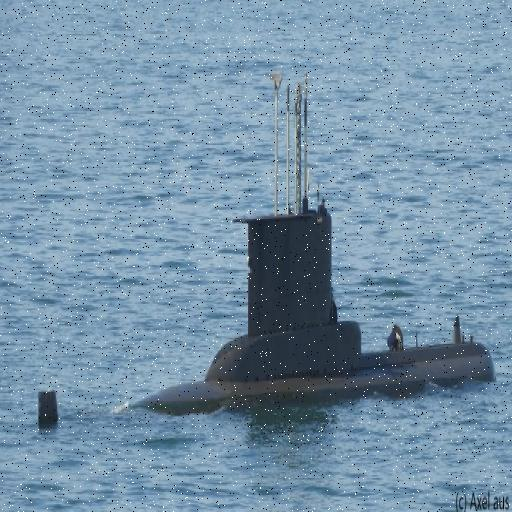submarine: (38, 66, 507, 437)
